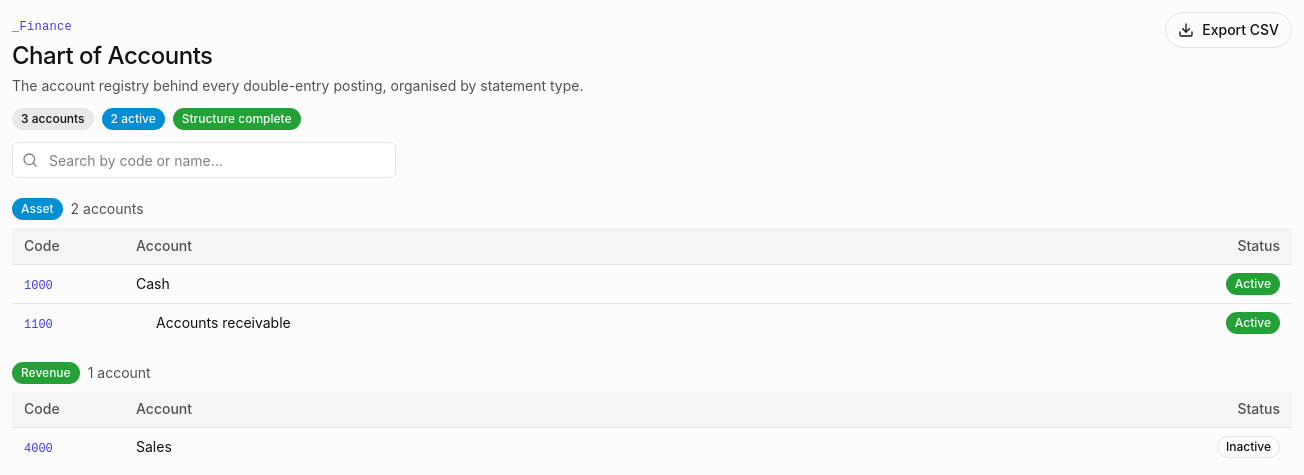
it: ChartOfAccountsPage › filters the tree by the search term
The width and height of the screenshot is (1304, 475).
Expected: the text "Cash" is shown, [136, 274, 170, 292]
Type "sales" into the search field with placeholder "Search by code or name…".
click(204, 160); type("sales")  # box [12, 142, 396, 178]
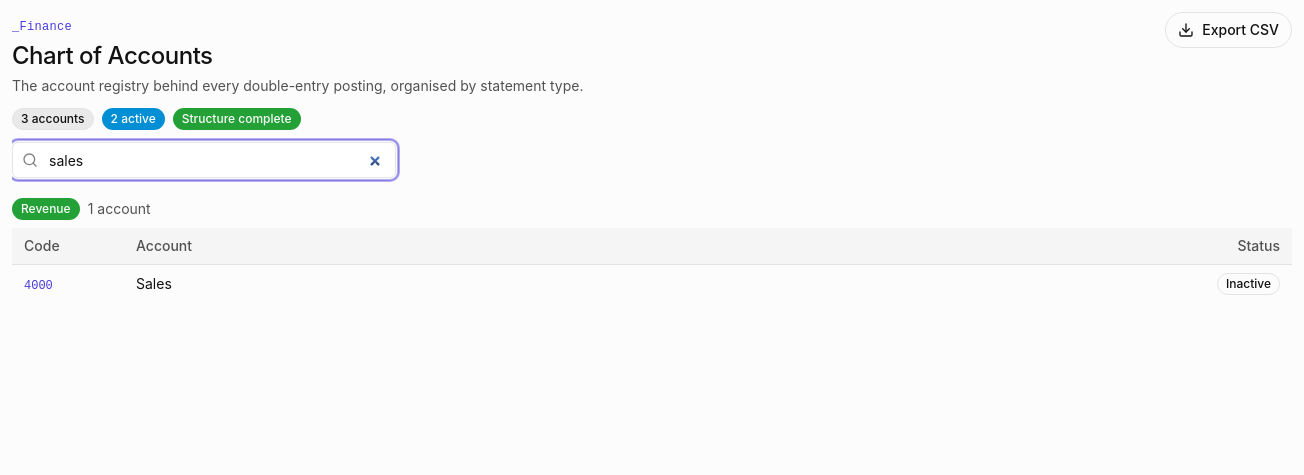
Expected: the text "Sales" is shown, [136, 274, 172, 292]
Result: the text "Cash" is gone
